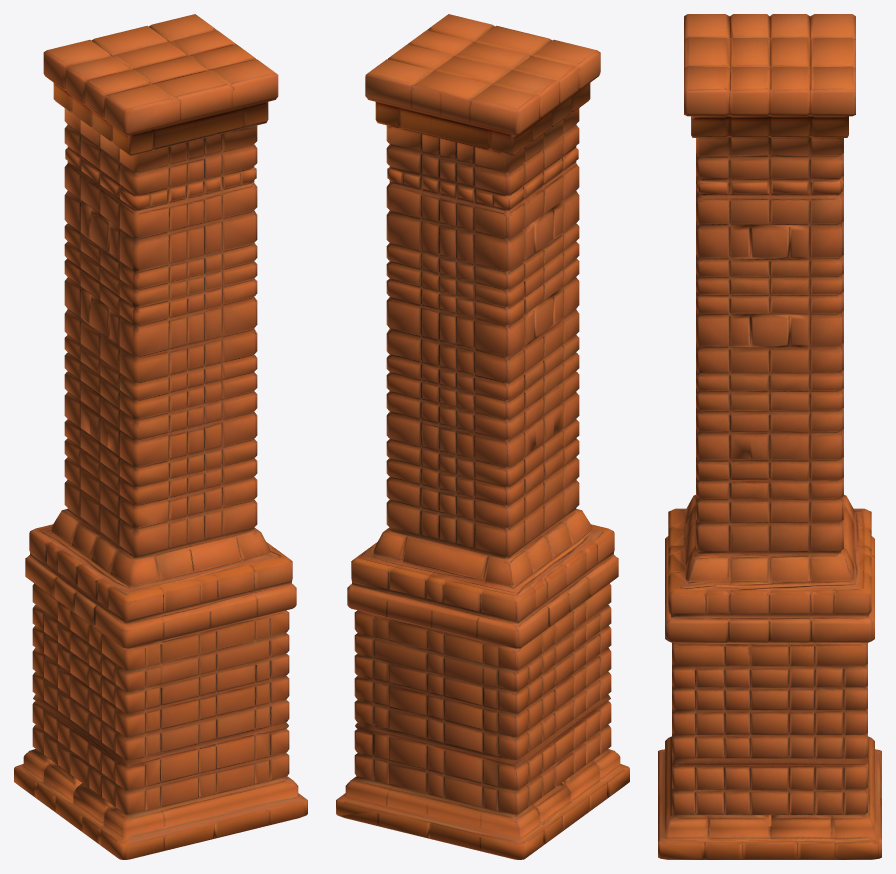
File: a_brick_chimney_47c9b7a0_v4.glb
3 views of the same model, side by side, from view 1: azimuth 30°, elevation 25°; view 2: azimuth 150°, elevation 25°; view 3: azimuth 270°, elevation 25° (orthographic). The views are drawn at different scales.
Parts seen in each view (by area): view 1: material; view 2: material; view 3: material.
Boxes of the visible parts, box(x1,y1,x2,y2) form: material: box(14, 14, 307, 859); material: box(336, 14, 629, 859); material: box(658, 14, 881, 859).
Bounding box in the file's own units: 0.5058 × 1.9 × 0.5058.
1 material, 1 textured.
